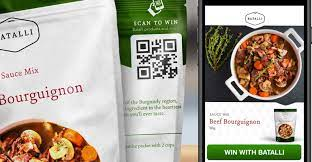qr_code: (134, 37, 180, 82)
